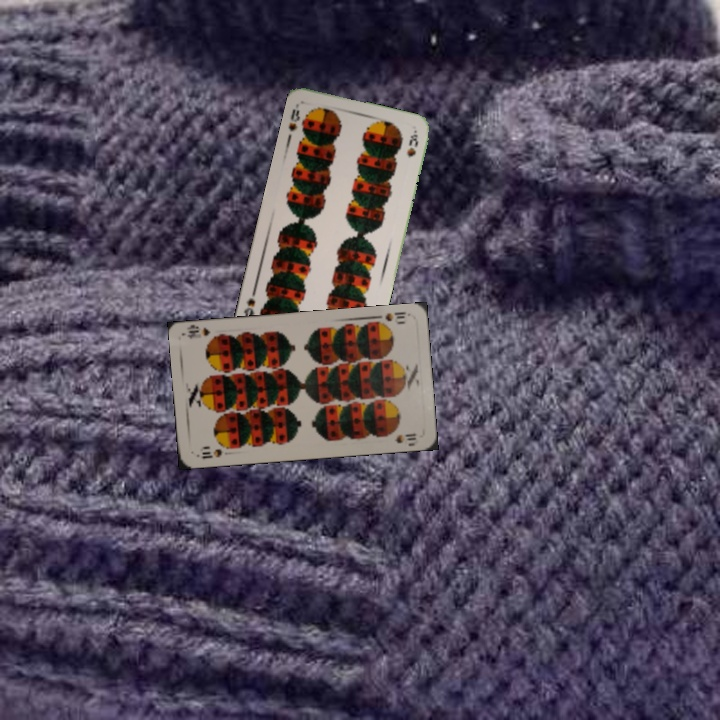S10: (371, 308, 411, 328), (197, 445, 224, 461)
S8: (285, 100, 302, 134)
